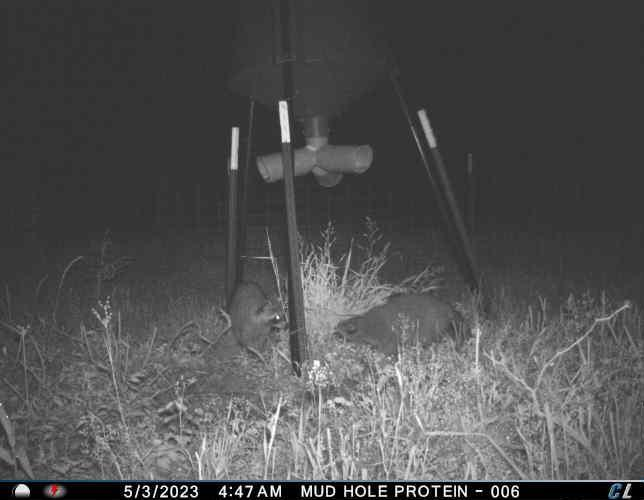Raccoon: (332, 290, 474, 359), (226, 279, 288, 364)
